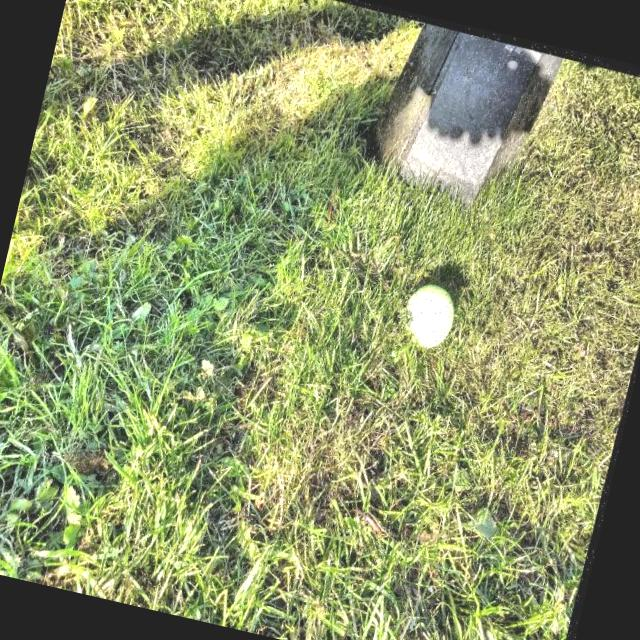tennis-ball: (392, 272, 472, 368)
